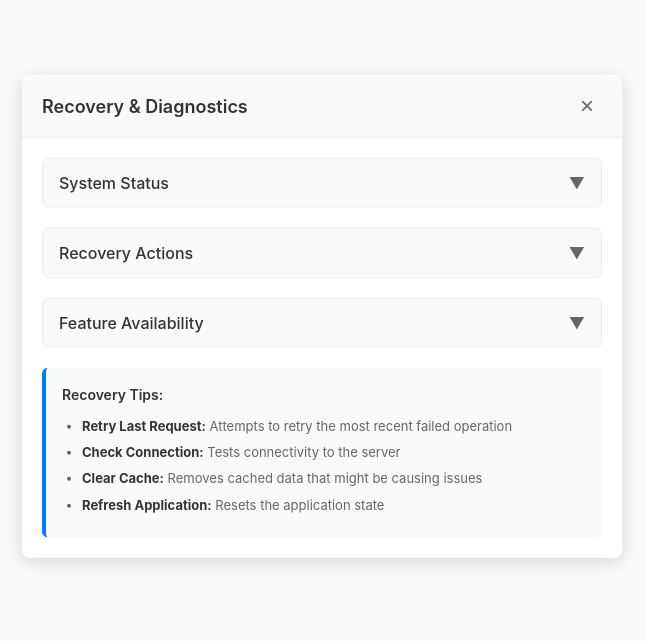
it: RecoveryPanel › Recovery Actions Section › should display recovery action buttons
Click the heading "Recovery Actions": x=126, y=253 [59,241,193,265]
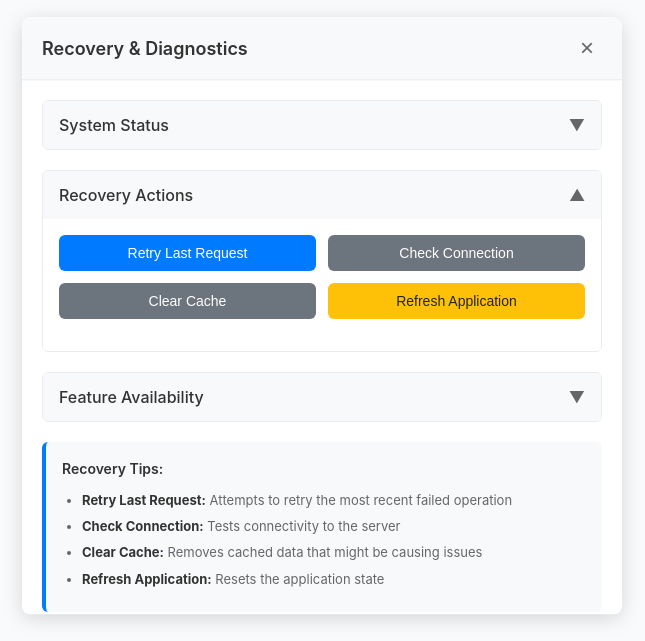
Expected: the button "Retry Last Request" is shown, [59,235,316,271]
Expected: the button "Check Connection" is shown, [328,235,585,271]
Expected: the button "Clear Cache" is shown, [59,283,316,319]
